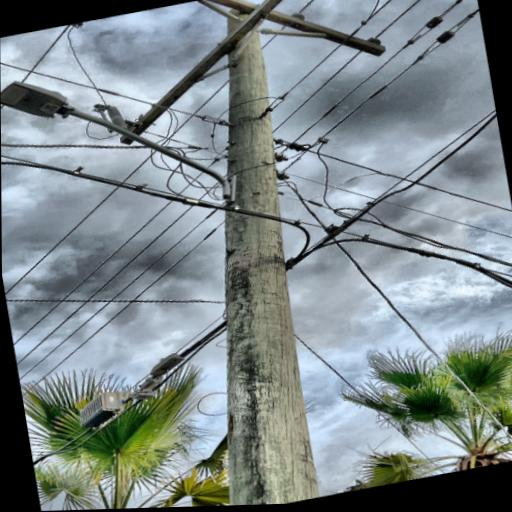pole: (114, 0, 355, 509)
street light: (0, 35, 249, 241)
